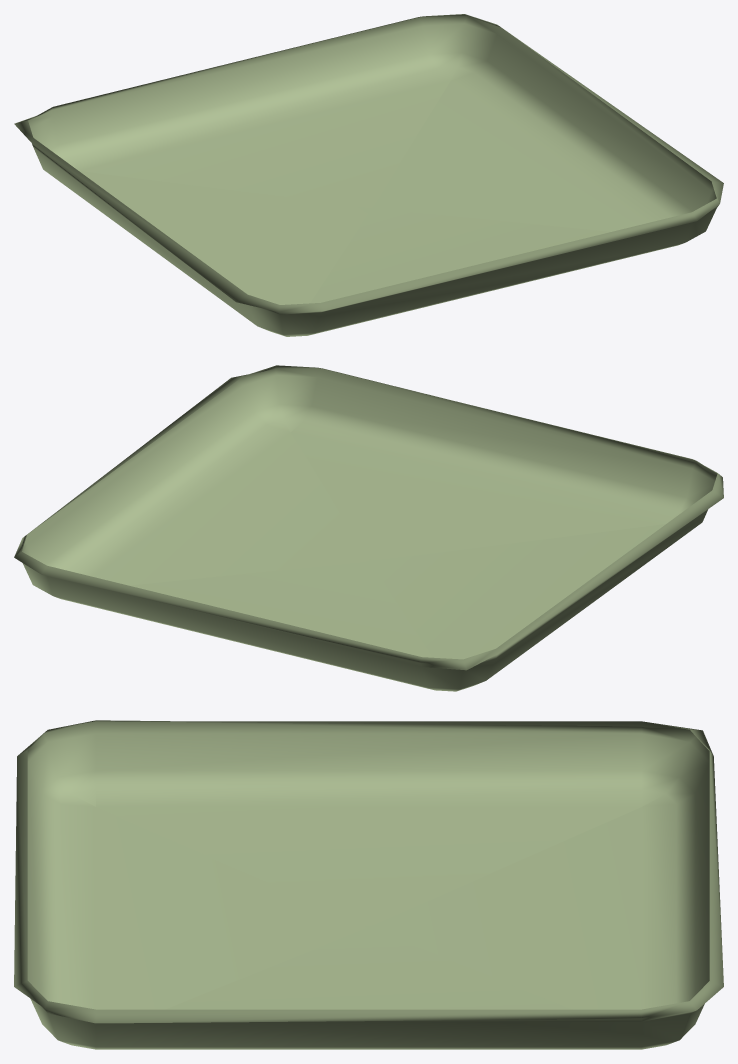
Rendered from ground-bottom.glb.
3 renders of one model, top to bottom at view 1: azimuth 30°, elevation 25°; view 2: azimuth 150°, elevation 25°; view 3: azimuth 270°, elevation 25°, orthographic. The views are drawn at different scales.
Parts seen in each view (by area): view 1: ground-bottom; view 2: ground-bottom; view 3: ground-bottom.
Boxes of the visible parts, bbox=[...] form: ground-bottom: bbox=[14, 14, 723, 336]; ground-bottom: bbox=[14, 365, 723, 691]; ground-bottom: bbox=[14, 720, 723, 1049].
Size of the model in its own units: 1.05 by 0.1 by 1.04.
